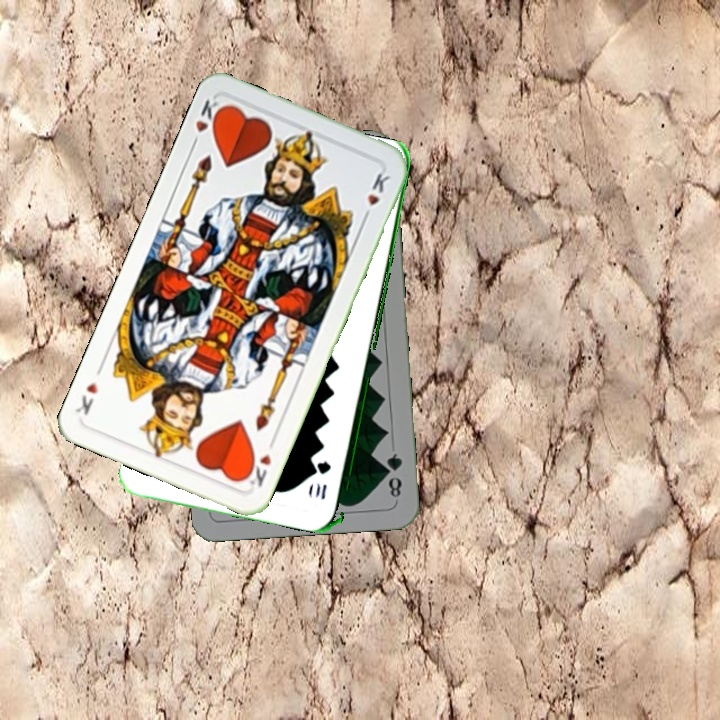G10: (311, 457, 334, 502)
G8: (381, 449, 405, 500)
HK: (187, 95, 227, 151), (241, 435, 278, 490)
